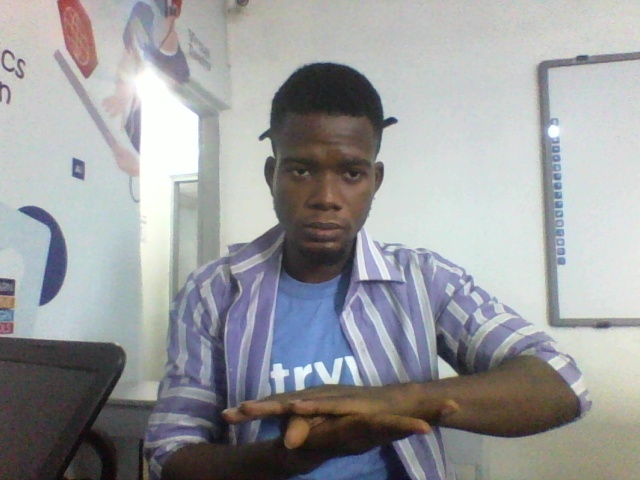nice_to_meet_you: (185, 363, 527, 480)
